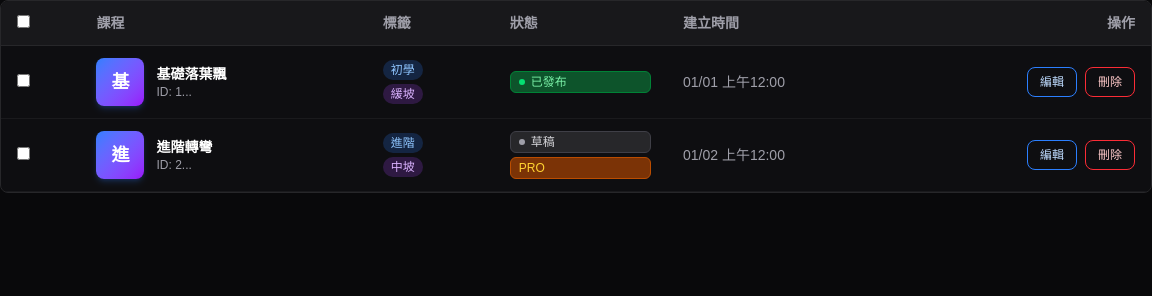
Test case: LessonManageTable - Batch Operations › 批次工具列 › 應該在選擇課程時顯示批次工具列
Click the checkbox in the row of "基礎落葉飄" at point(24, 80), box [17,74,30,87]
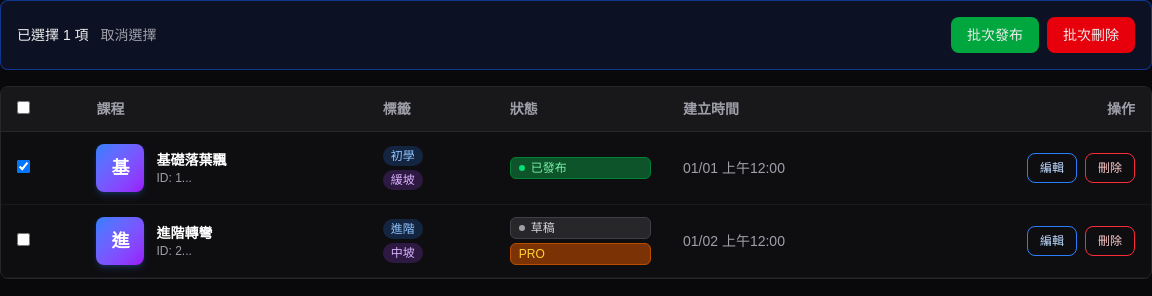
Expected: the text "已選擇 1 項" is shown, [17,25,89,45]
